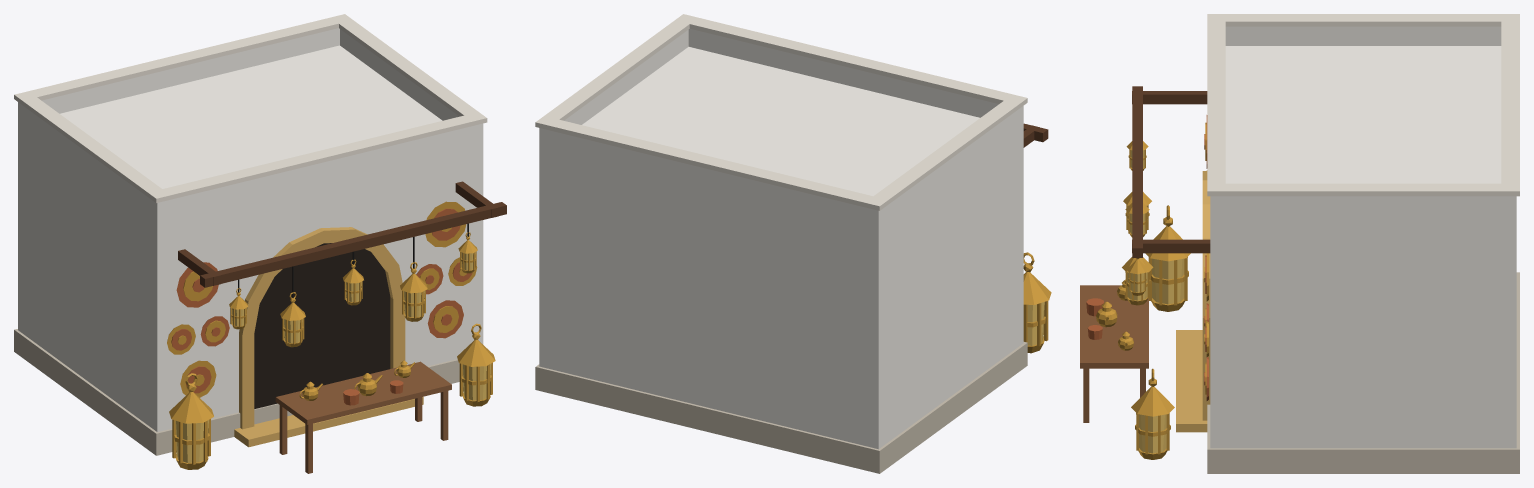
The model's file is SidiBouSaid_Vendor_LanternCopper.fbx.
3 views of the same model, side by side, from view 1: azimuth 30°, elevation 25°; view 2: azimuth 150°, elevation 25°; view 3: azimuth 270°, elevation 25° (orthographic). The views are drawn at different scales.
Parts seen in each view (by area): view 1: SidiBouSaid_Vendor_LanternCopper.001; view 2: SidiBouSaid_Vendor_LanternCopper.001; view 3: SidiBouSaid_Vendor_LanternCopper.001.
Boxes of the visible parts, x1,y1,x2,y2 form: SidiBouSaid_Vendor_LanternCopper.001: [14, 14, 506, 473]; SidiBouSaid_Vendor_LanternCopper.001: [535, 14, 1051, 473]; SidiBouSaid_Vendor_LanternCopper.001: [1080, 14, 1519, 473].
Bounding box in the file's own units: 5.53 × 4.07 × 5.74.
